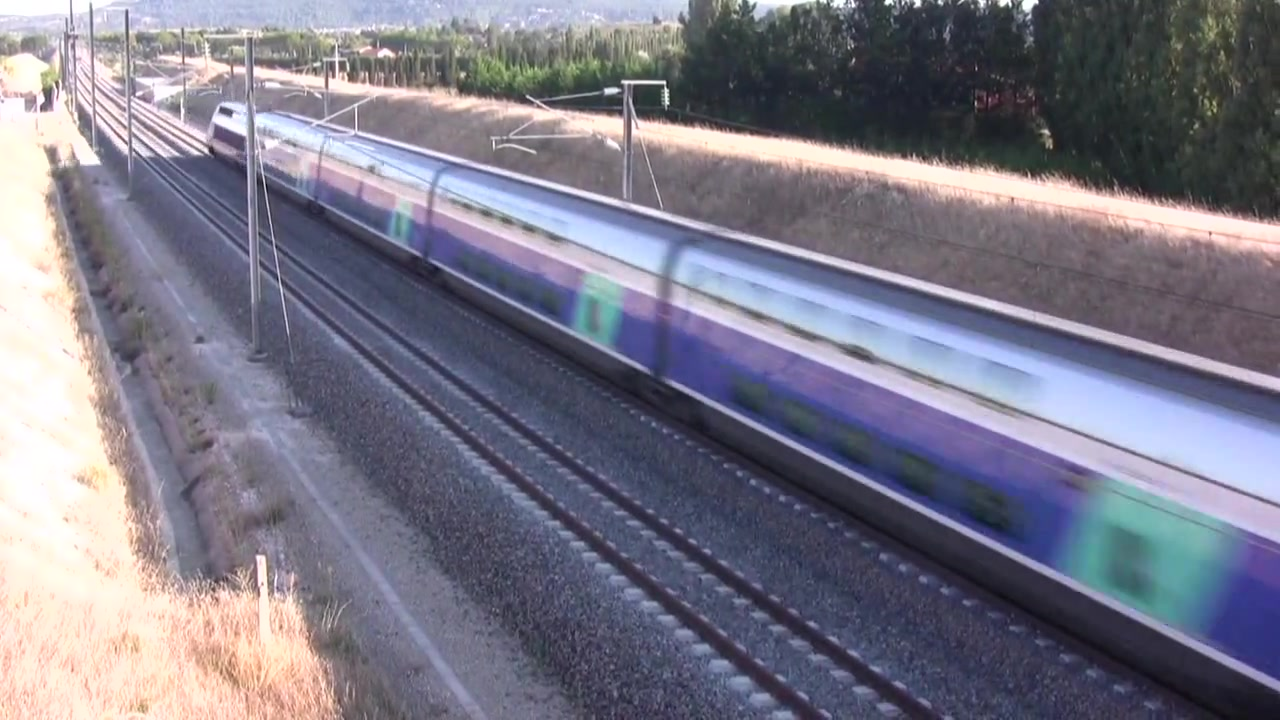train: (201, 101, 1280, 720)
